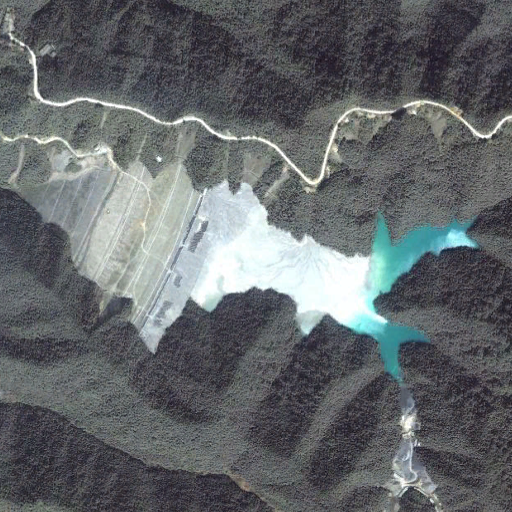tp: (24, 165, 480, 387)
